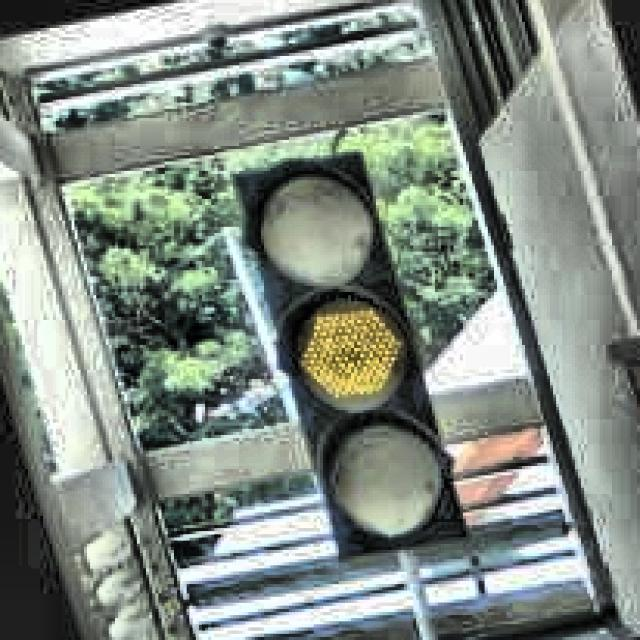yellow: (213, 141, 477, 567)
